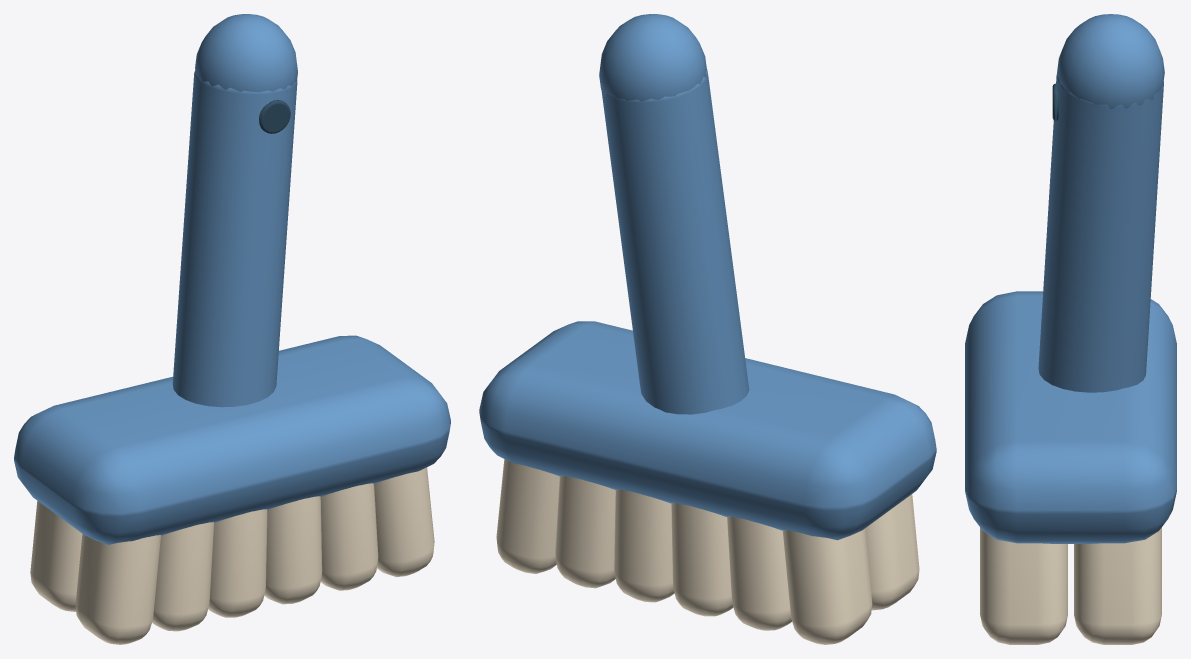
The model's file is BrushIcon.glb.
3 views of the same model, side by side, from view 1: azimuth 30°, elevation 25°; view 2: azimuth 150°, elevation 25°; view 3: azimuth 270°, elevation 25° (orthographic). The views are drawn at different scales.
Parts seen in each view (by area): view 1: BrushIcon; view 2: BrushIcon; view 3: BrushIcon.
Part boxes in pixels (x1=…): BrushIcon: x1=14, y1=14, x2=450, y2=644; BrushIcon: x1=479, y1=14, x2=936, y2=644; BrushIcon: x1=965, y1=14, x2=1176, y2=644.
Size of the model in its own units: 1.12 by 1.57 by 0.53.
